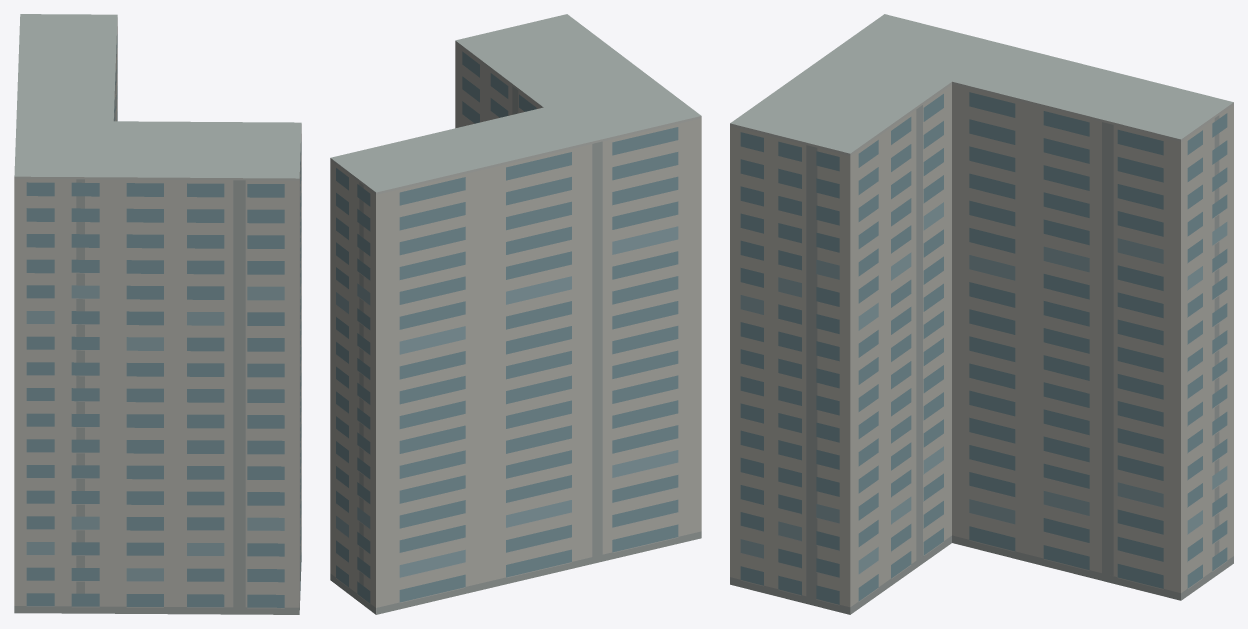
File: residential-c7a31e87-6800-456a-828c-5700b69dedcb.glb
The picture shows the model from 3 angles, left to right: view 1: azimuth 30°, elevation 25°; view 2: azimuth 150°, elevation 25°; view 3: azimuth 270°, elevation 25°; orthographic projection. The views are drawn at different scales.
Visible parts, largest first — view 1: residential-c7a31e87-6800-456a-828c-5700b69dedcb.tmp; view 2: residential-c7a31e87-6800-456a-828c-5700b69dedcb.tmp; view 3: residential-c7a31e87-6800-456a-828c-5700b69dedcb.tmp.
Part boxes in pixels (x1,y1,x2,y2): residential-c7a31e87-6800-456a-828c-5700b69dedcb.tmp: [14, 14, 301, 614]; residential-c7a31e87-6800-456a-828c-5700b69dedcb.tmp: [330, 14, 701, 614]; residential-c7a31e87-6800-456a-828c-5700b69dedcb.tmp: [730, 14, 1233, 614].
Size of the model in its own units: 29.88 by 46 by 45.55.
